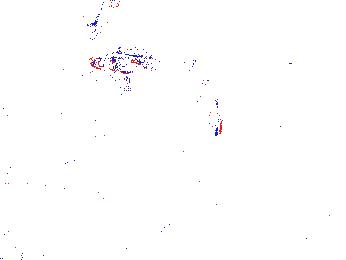glassfish: (189, 69, 224, 143)
red belly glassfish: (116, 45, 143, 57)
redtail glassfish: (88, 1, 122, 43), (88, 51, 150, 72)
